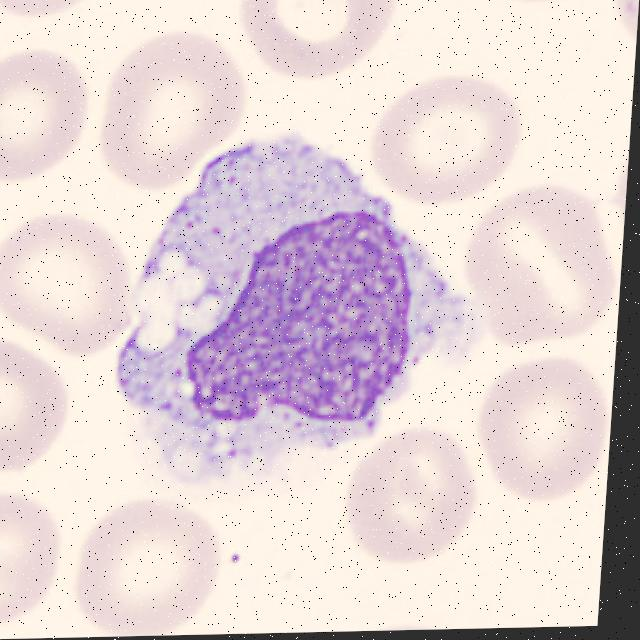monocyte: (111, 141, 499, 491)
rbc: (467, 192, 615, 343), (101, 40, 243, 189), (75, 505, 220, 636), (481, 362, 608, 505), (373, 87, 522, 206), (1, 218, 128, 349), (346, 442, 475, 566), (239, 0, 391, 82), (0, 54, 89, 187), (0, 342, 74, 473), (0, 497, 71, 624), (0, 0, 80, 22), (605, 0, 640, 48), (489, 0, 577, 5)
